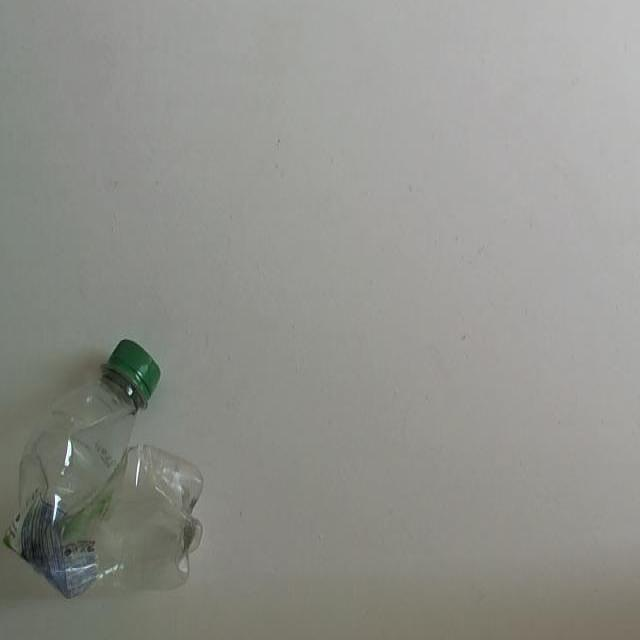defect: (0, 334, 206, 604)
